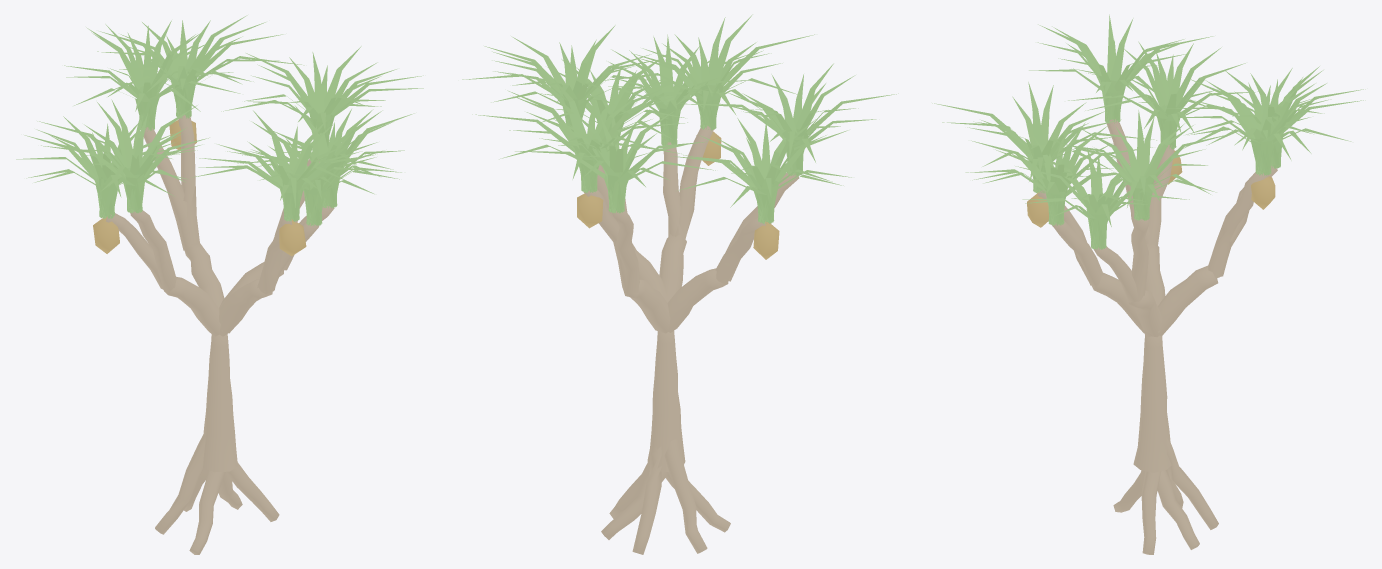
Rendered from Blender_Hala_3.glb.
3 views of the same model, side by side, from view 1: azimuth 30°, elevation 25°; view 2: azimuth 150°, elevation 25°; view 3: azimuth 270°, elevation 25° (orthographic). The views are drawn at different scales.
Parts seen in each view (by area): view 1: Blender_Hala_3; view 2: Blender_Hala_3; view 3: Blender_Hala_3.
Boxes of the visible parts, x1,y1,x2,y2 form: Blender_Hala_3: [16, 15, 423, 554]; Blender_Hala_3: [462, 14, 898, 554]; Blender_Hala_3: [932, 14, 1365, 554].
Size of the model in its own units: 7.8 by 8.87 by 7.83.
